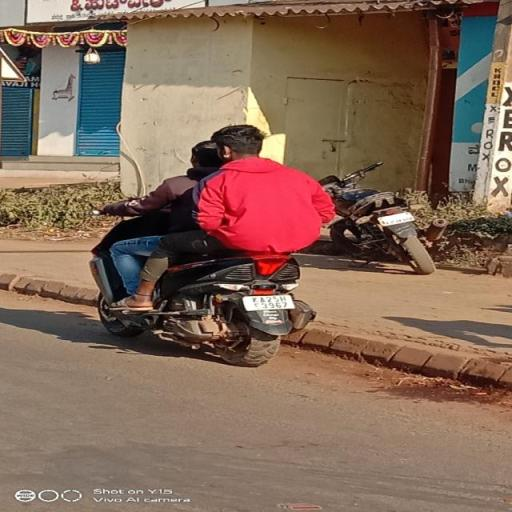bike: (84, 123, 332, 368)
numberplate: (242, 288, 297, 314)
withouthelmet: (215, 127, 262, 160), (192, 143, 220, 169)
